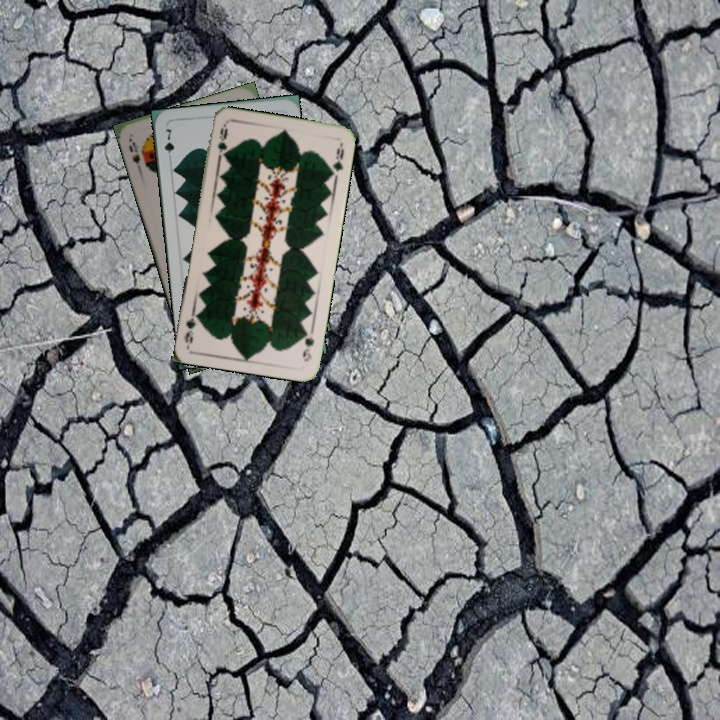G7: (160, 125, 177, 164)
G9: (299, 325, 317, 364), (214, 121, 230, 162)
SO: (125, 138, 143, 166)
